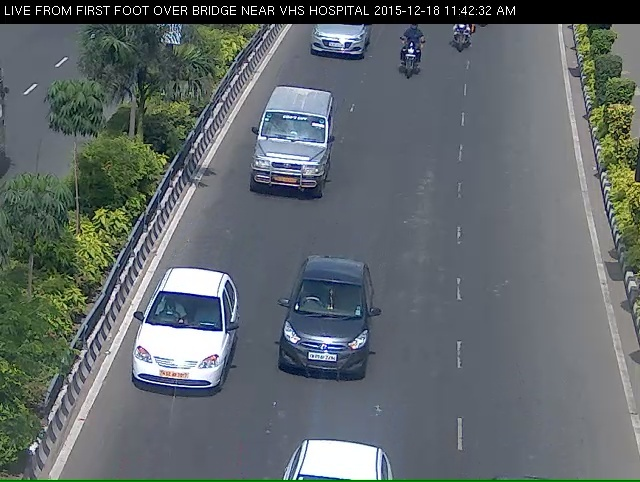Car: (265, 265, 384, 405), (127, 287, 238, 421), (238, 84, 342, 216), (305, 21, 375, 67)
Person: (394, 28, 426, 88), (446, 24, 480, 57)
